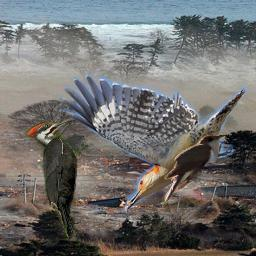Cuckoo: (162, 133, 227, 210)
Woodpecker: (57, 73, 247, 214), (25, 119, 94, 241)
